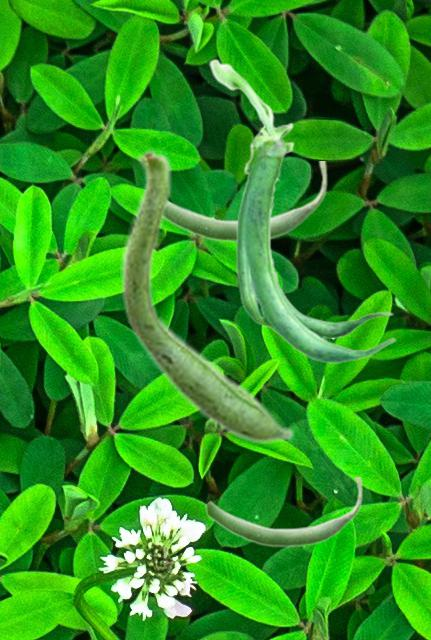french_bean: (208, 58, 395, 363), (120, 146, 294, 444), (166, 161, 327, 242), (205, 477, 362, 547)
